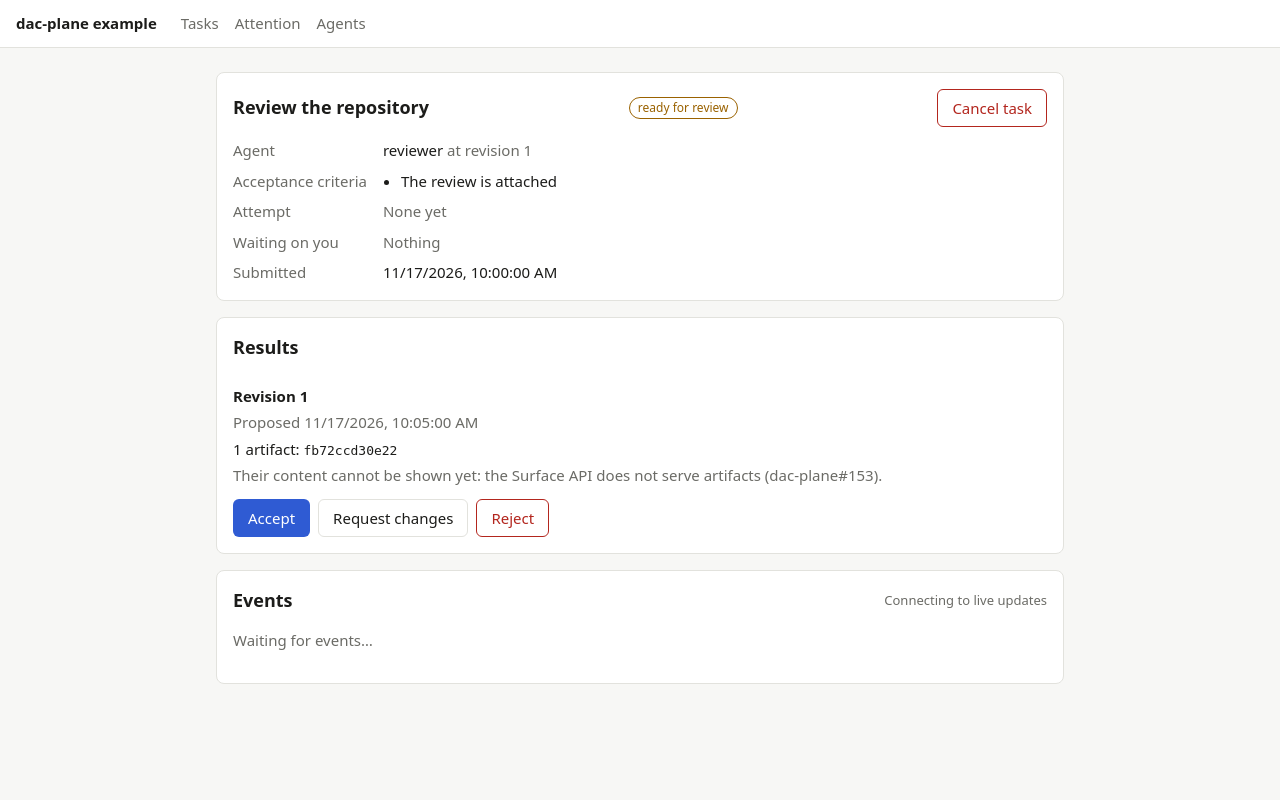
Test case: review › accepts the newest revision with the task's ETag
What coordinates should you click on to do the following:
click the button "Accept"
I would click on:
 (272, 518)
Its box is [233,498,310,537].
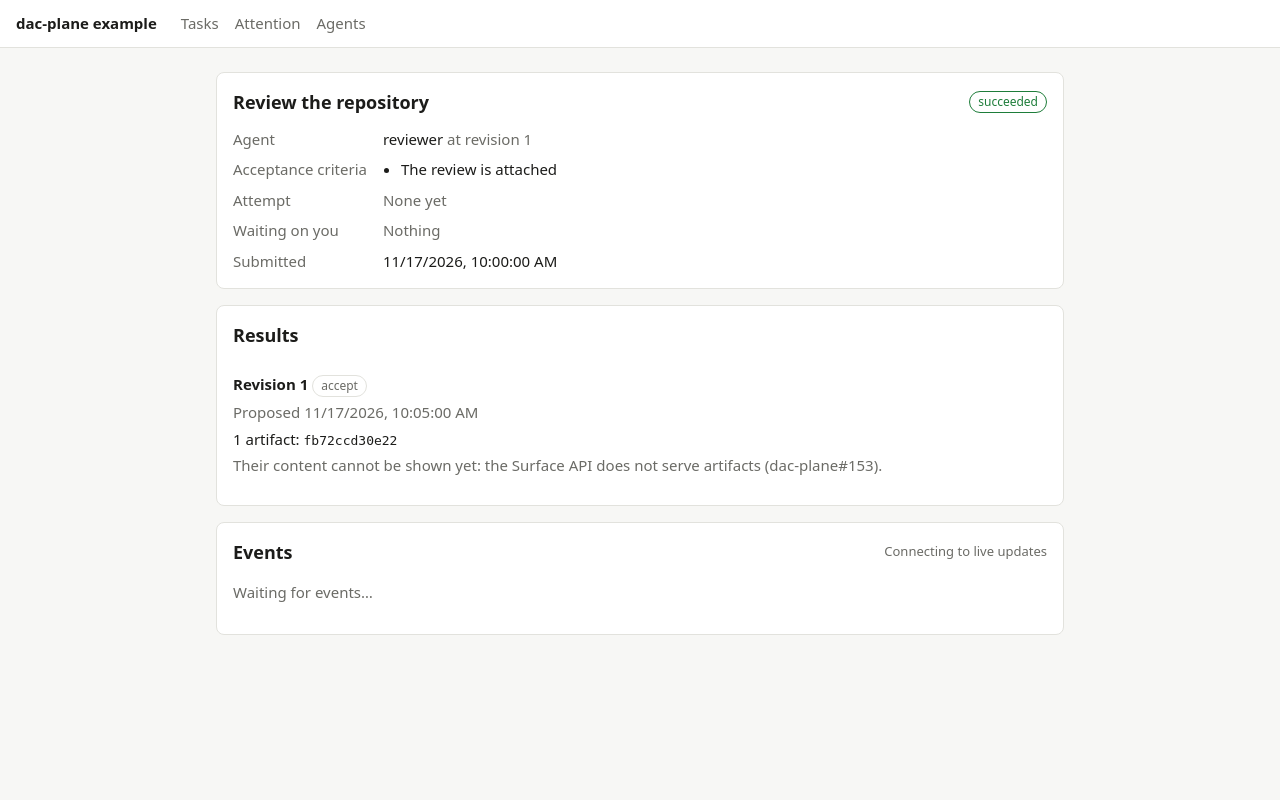
Expected: the text "succeeded" is shown, [969,91,1047,113]
